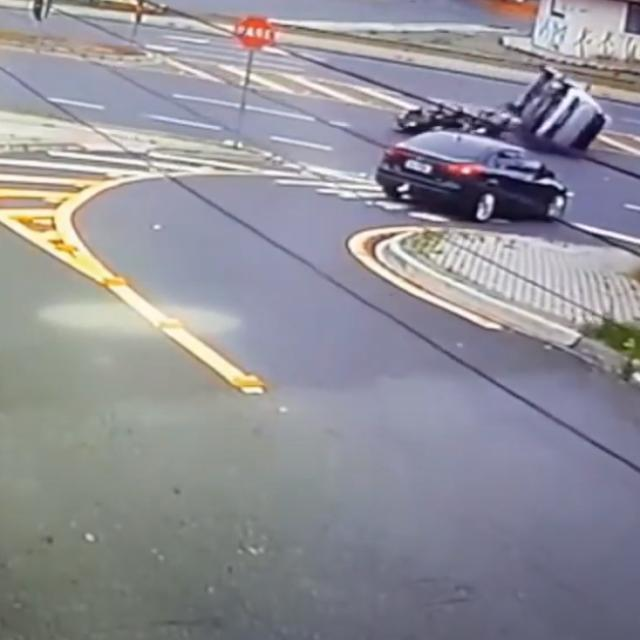accident: (398, 70, 612, 154)
